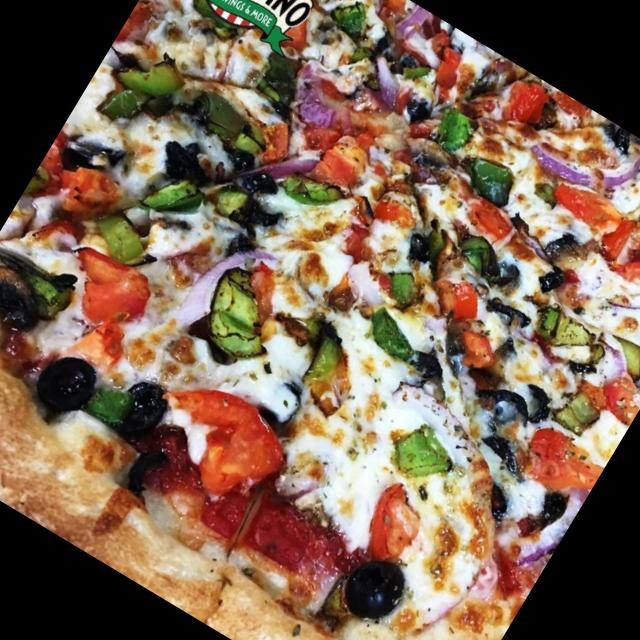black_olives: (332, 548, 416, 634), (24, 343, 106, 426), (100, 370, 174, 449), (146, 132, 224, 202), (474, 380, 537, 436), (467, 243, 526, 300), (54, 130, 110, 186), (507, 378, 562, 433), (480, 428, 536, 480), (522, 488, 570, 548), (122, 442, 172, 499), (479, 290, 532, 340), (395, 221, 443, 273), (398, 93, 442, 139), (480, 480, 520, 524), (532, 260, 571, 302), (141, 85, 178, 122), (622, 340, 640, 393)
peppers: (266, 306, 382, 428), (186, 255, 296, 372), (106, 32, 198, 122), (132, 158, 218, 237), (380, 412, 460, 492), (84, 203, 160, 273), (524, 293, 600, 363), (454, 147, 526, 215), (184, 80, 253, 148), (427, 96, 488, 160), (364, 304, 428, 364), (277, 160, 341, 220), (551, 385, 609, 445), (224, 109, 278, 163), (330, 0, 380, 47), (380, 265, 426, 311), (98, 86, 140, 130)
